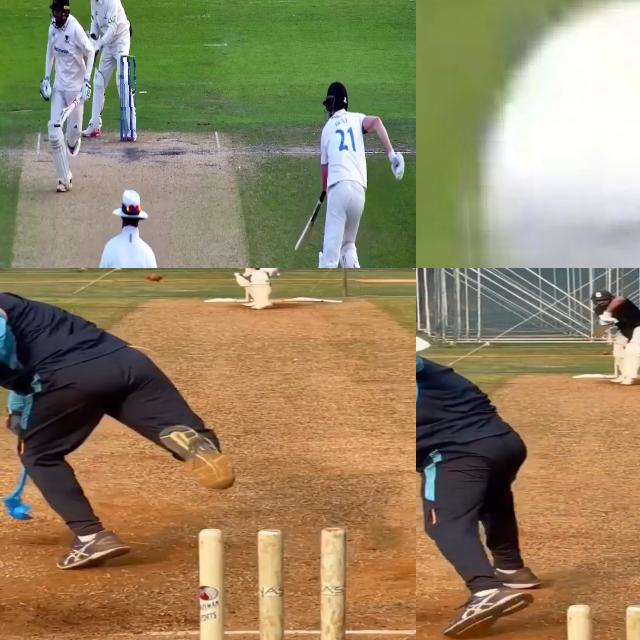Cricket ball: (458, 0, 640, 268), (146, 272, 163, 282), (601, 350, 611, 356)
Stumps: (195, 527, 348, 640), (120, 50, 136, 142)
